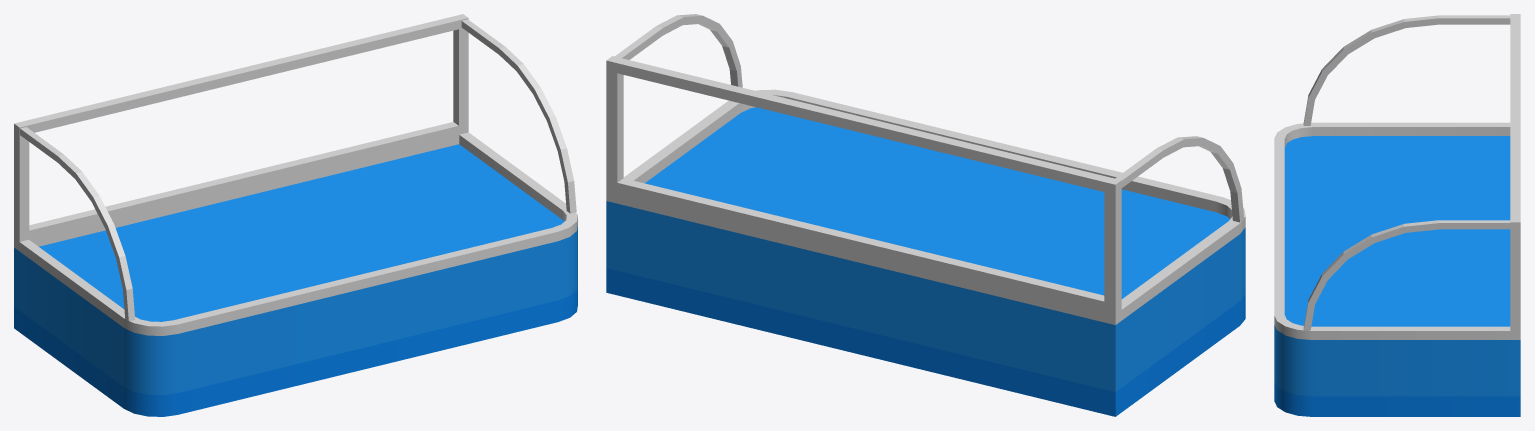
The model's file is shelf_1.fbx.
3 views of the same model, side by side, from view 1: azimuth 30°, elevation 25°; view 2: azimuth 150°, elevation 25°; view 3: azimuth 270°, elevation 25° (orthographic). The views are drawn at different scales.
Visible parts, largest first — view 1: shelf_1; view 2: shelf_1; view 3: shelf_1.
Boxes of the visible parts, x1,y1,x2,y2 form: shelf_1: [14, 14, 577, 416]; shelf_1: [606, 14, 1245, 416]; shelf_1: [1274, 14, 1520, 416].
Bounding box in the file's own units: 300 × 131 × 150.
